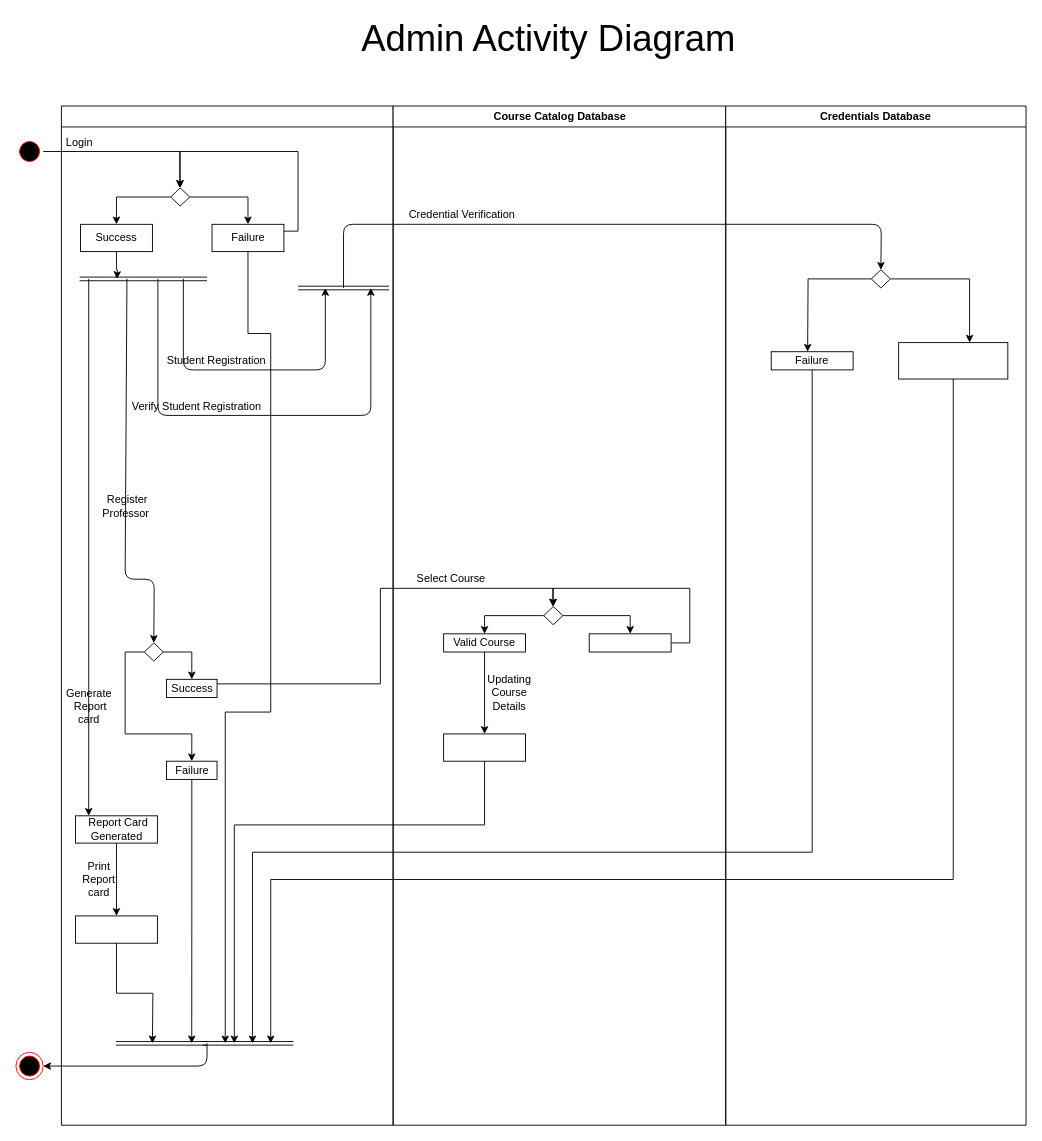
This 1042x1141 diagram has some shape labels left out. Here are the shapes that lost their labels. From the top down, the box of each, then its label:
(898, 342, 1008, 379): Success(Credentials Added)
(61, 105, 393, 1125): Admin
(588, 633, 671, 652): Invalid Course
(443, 733, 526, 761): Update Course Course
(75, 915, 157, 943): Report Card Printed
